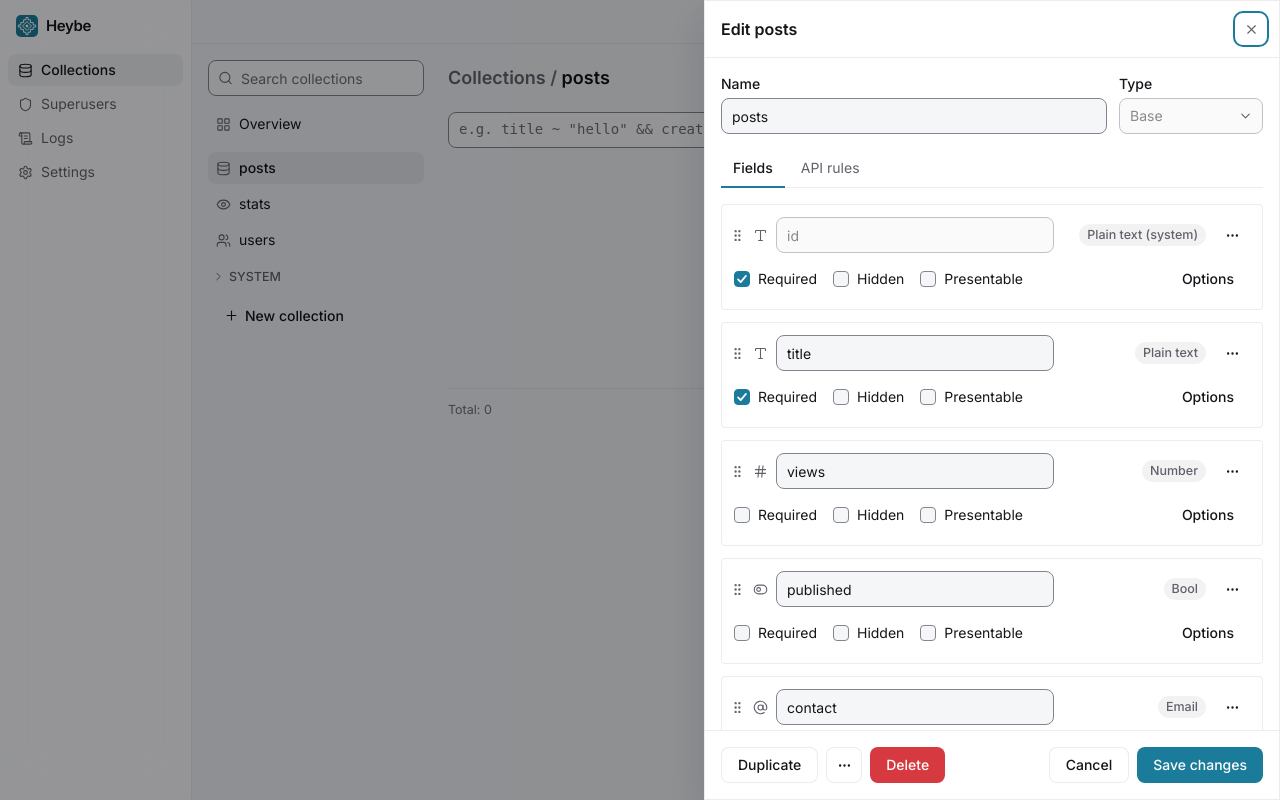
Scenario: locked rule is sent as null and an unlocked empty rule as ""
Earlier steps of the test are not shown.
Later steps or results of the test are not shown.
Click the tab "API rules".
click(830, 169)  # box [789, 150, 872, 188]
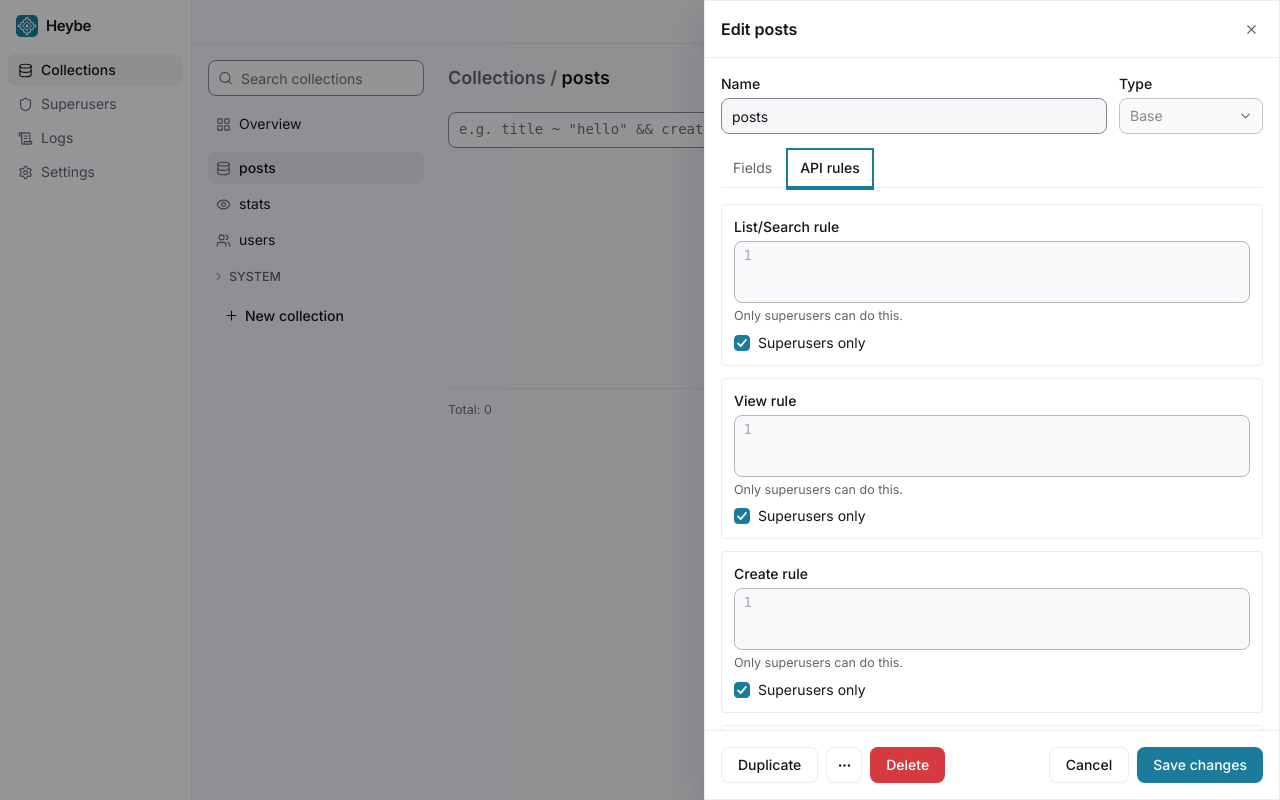
Click the checkbox labelled "Superusers only" below "List/Search rule".
click(742, 342)  # box [734, 334, 750, 350]
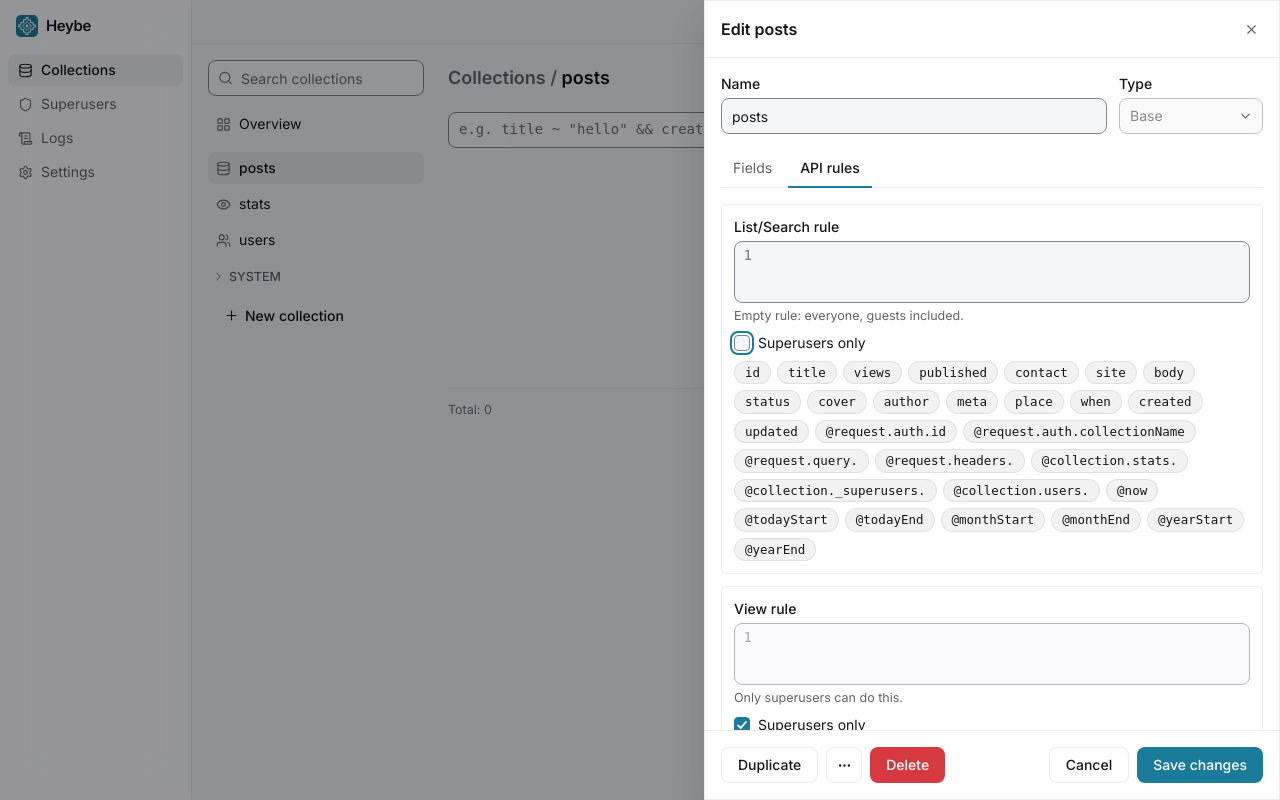
Expected: the text "Empty rule: everyone, guests included." is shown, [734, 308, 964, 323]
